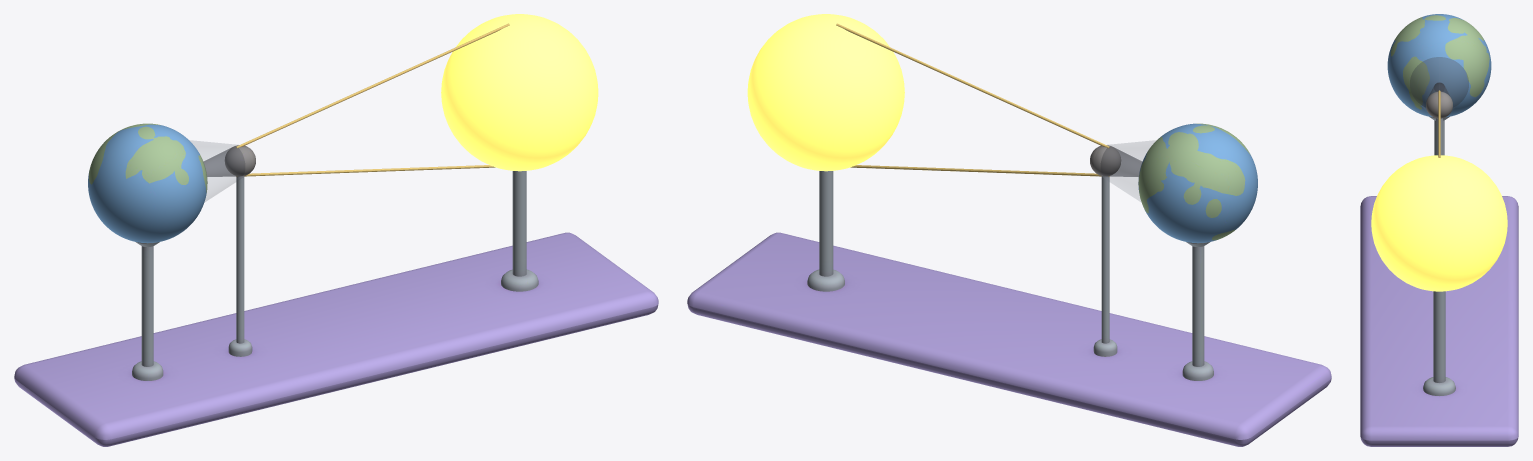
File: solar-eclipse.glb
3 renders of one model, left to right at view 1: azimuth 30°, elevation 25°; view 2: azimuth 150°, elevation 25°; view 3: azimuth 270°, elevation 25°, orthographic. The views are drawn at different scales.
Parts seen in each view (by area): view 1: solar-eclipse_body, solar-eclipse_sun_glow, solar-eclipse_penumbra_glass, solar-eclipse_umbra_glass; view 2: solar-eclipse_body, solar-eclipse_sun_glow, solar-eclipse_penumbra_glass, solar-eclipse_umbra_glass; view 3: solar-eclipse_body, solar-eclipse_sun_glow.
Boxes of the visible parts, x1=… form: solar-eclipse_body: x1=14, y1=23, x2=658, y2=446; solar-eclipse_sun_glow: x1=441, y1=14, x2=598, y2=171; solar-eclipse_penumbra_glass: x1=189, y1=140, x2=251, y2=201; solar-eclipse_umbra_glass: x1=203, y1=146, x2=244, y2=176; solar-eclipse_body: x1=687, y1=23, x2=1331, y2=446; solar-eclipse_sun_glow: x1=747, y1=14, x2=904, y2=171; solar-eclipse_penumbra_glass: x1=1094, y1=140, x2=1156, y2=201; solar-eclipse_umbra_glass: x1=1101, y1=146, x2=1142, y2=176; solar-eclipse_body: x1=1360, y1=14, x2=1518, y2=446; solar-eclipse_sun_glow: x1=1371, y1=155, x2=1507, y2=291.
Bounding box in the file's own units: 0.413 × 0.2003 × 0.116.
4 materials, 1 textured.
